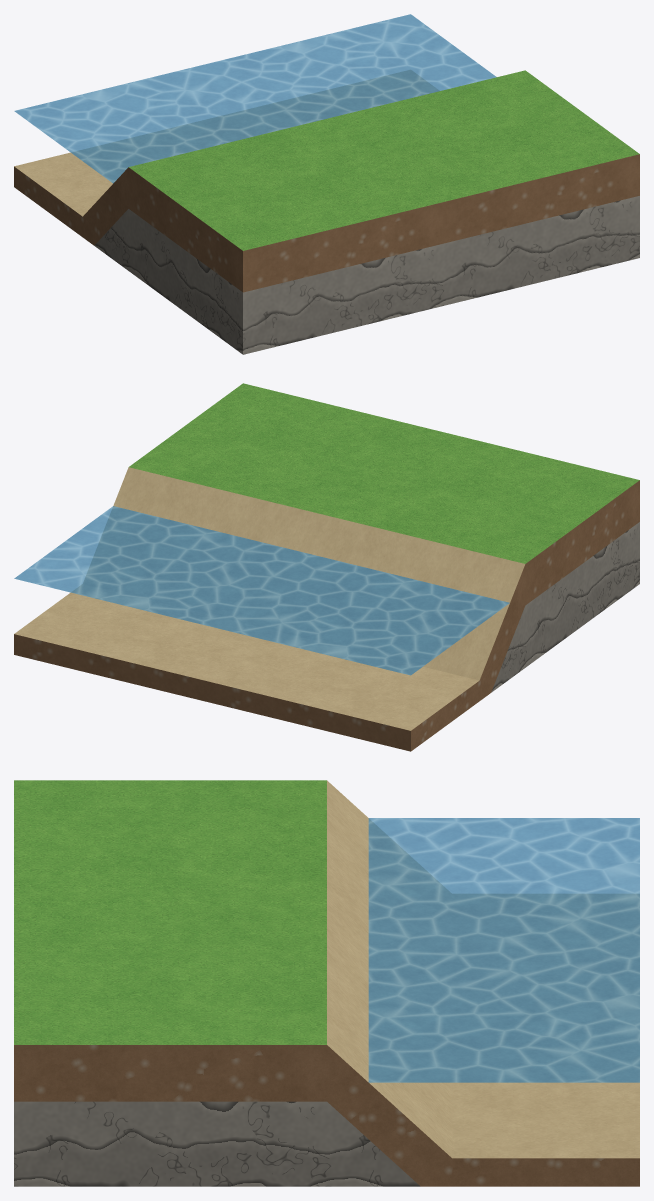
The model's file is Water_Edge_L.fbx.
3 renders of one model, top to bottom at view 1: azimuth 30°, elevation 25°; view 2: azimuth 150°, elevation 25°; view 3: azimuth 270°, elevation 25°, orthographic. The views are drawn at different scales.
Visible parts, largest first — view 1: Water_Edge_L, Water_Edge_L_Water; view 2: Water_Edge_L, Water_Edge_L_Water; view 3: Water_Edge_L, Water_Edge_L_Water.
Part boxes in pixels (x1=…): Water_Edge_L: x1=14, y1=70, x2=639, y2=354; Water_Edge_L_Water: x1=14, y1=14, x2=496, y2=183; Water_Edge_L: x1=14, y1=383, x2=639, y2=751; Water_Edge_L_Water: x1=14, y1=506, x2=509, y2=675; Water_Edge_L: x1=14, y1=780, x2=639, y2=1186; Water_Edge_L_Water: x1=368, y1=818, x2=639, y2=1082.
Size of the model in its own units: 3 by 0.75 by 3.
5 materials, 5 textured.
